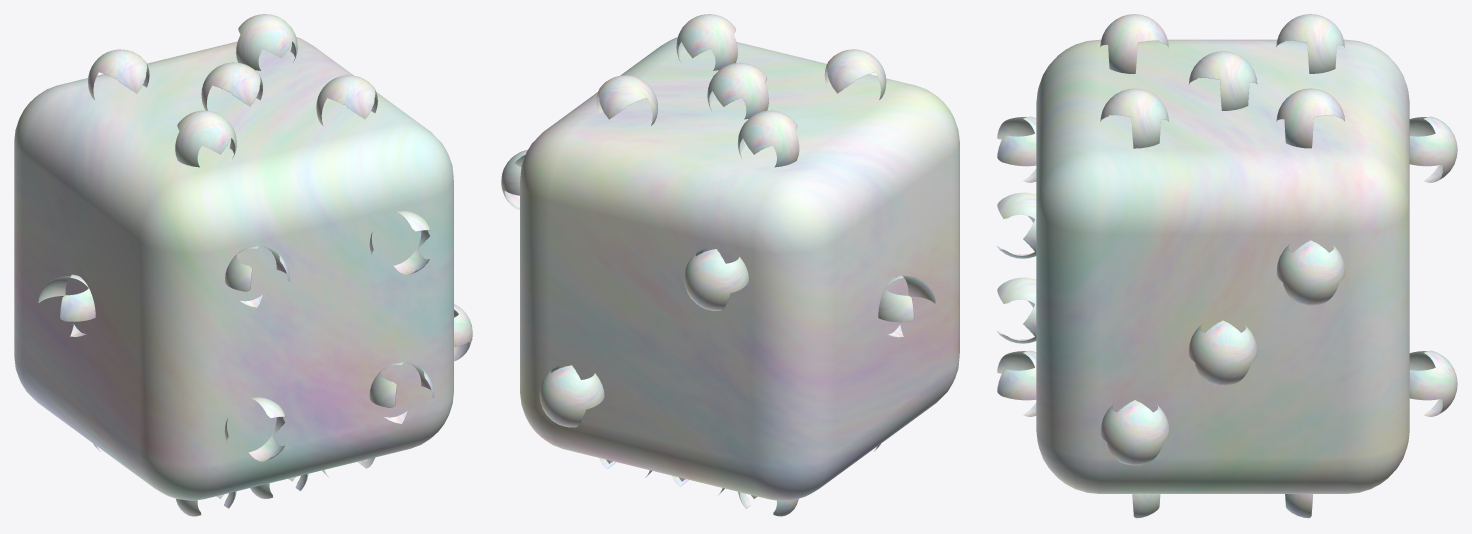
Rendered from bubblecubik_export2.1.glb.
3 renders of one model, left to right at view 1: azimuth 30°, elevation 25°; view 2: azimuth 150°, elevation 25°; view 3: azimuth 270°, elevation 25°, orthographic. The views are drawn at different scales.
Parts seen in each view (by area): view 1: Cube_Baked, Sphere.010_Baked, Sphere.011_Baked, Sphere.012_Baked, Sphere.013_Baked, Sphere.014_Baked, Sphere_Baked, Sphere.006_Baked, Sphere.007_Baked, Sphere.008_Baked, Sphere.009_Baked, Sphere.003_Baked; view 2: Cube_Baked, Sphere.005_Baked, Sphere.004_Baked, Sphere.013_Baked, Sphere.012_Baked, Sphere.014_Baked, Sphere.010_Baked, Sphere.011_Baked, Sphere_Baked, Sphere.001_Baked; view 3: Cube_Baked, Sphere.003_Baked, Sphere.002_Baked, Sphere.001_Baked, Sphere.005_Baked, Sphere.004_Baked, Sphere.011_Baked, Sphere.012_Baked, Sphere.010_Baked, Sphere.013_Baked, Sphere.014_Baked, Sphere.007_Baked (+5 smaller).
Part boxes in pixels (x1=…): Cube_Baked: x1=14, y1=37, x2=453, y2=500; Sphere.010_Baked: x1=175, y1=110, x2=236, y2=167; Sphere.011_Baked: x1=236, y1=14, x2=297, y2=70; Sphere.012_Baked: x1=316, y1=75, x2=377, y2=125; Sphere.013_Baked: x1=88, y1=49, x2=149, y2=99; Sphere.014_Baked: x1=201, y1=62, x2=262, y2=110; Sphere_Baked: x1=38, y1=274, x2=95, y2=336; Sphere.006_Baked: x1=225, y1=245, x2=289, y2=307; Sphere.007_Baked: x1=369, y1=362, x2=434, y2=423; Sphere.008_Baked: x1=369, y1=210, x2=429, y2=274; Sphere.009_Baked: x1=224, y1=397, x2=285, y2=461; Sphere.003_Baked: x1=454, y1=303, x2=472, y2=361; Cube_Baked: x1=520, y1=37, x2=959, y2=500; Sphere.005_Baked: x1=539, y1=365, x2=604, y2=427; Sphere.004_Baked: x1=684, y1=249, x2=748, y2=310; Sphere.013_Baked: x1=738, y1=110, x2=799, y2=167; Sphere.012_Baked: x1=676, y1=14, x2=737, y2=70; Sphere.014_Baked: x1=707, y1=62, x2=768, y2=119; Sphere.010_Baked: x1=824, y1=49, x2=886, y2=99; Sphere.011_Baked: x1=596, y1=75, x2=657, y2=125; Sphere_Baked: x1=878, y1=275, x2=935, y2=337; Sphere.001_Baked: x1=501, y1=150, x2=527, y2=209; Cube_Baked: x1=1036, y1=39, x2=1409, y2=493; Sphere.003_Baked: x1=1100, y1=400, x2=1169, y2=465; Sphere.002_Baked: x1=1188, y1=320, x2=1257, y2=385; Sphere.001_Baked: x1=1276, y1=240, x2=1345, y2=305; Sphere.005_Baked: x1=1409, y1=351, x2=1457, y2=416; Sphere.004_Baked: x1=1409, y1=116, x2=1457, y2=182; Sphere.011_Baked: x1=1276, y1=88, x2=1344, y2=148; Sphere.012_Baked: x1=1100, y1=88, x2=1168, y2=148; Sphere.010_Baked: x1=1100, y1=14, x2=1168, y2=73; Sphere.013_Baked: x1=1276, y1=14, x2=1344, y2=73; Sphere.014_Baked: x1=1188, y1=51, x2=1257, y2=110; Sphere.007_Baked: x1=997, y1=351, x2=1036, y2=416.
Bounding box in the file's own units: 2.51 × 2.51 × 2.51.
1 material, 1 textured.
